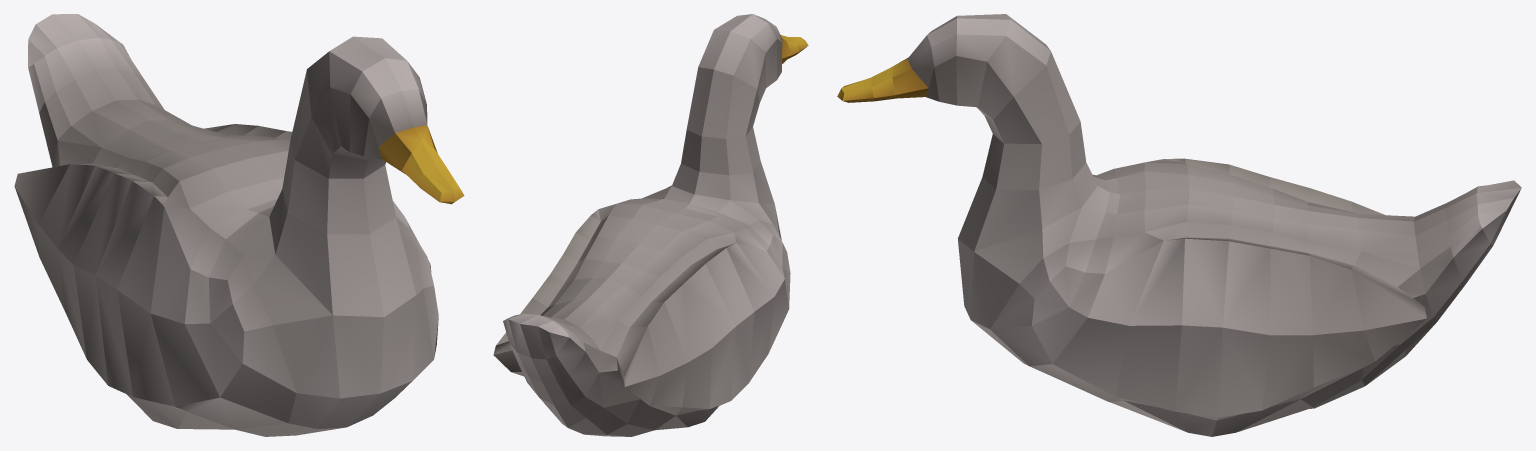
Rendered from Duck.fbx.
3 views of the same model, side by side, from view 1: azimuth 30°, elevation 25°; view 2: azimuth 150°, elevation 25°; view 3: azimuth 270°, elevation 25° (orthographic). The views are drawn at different scales.
Parts seen in each view (by area): view 1: Duck; view 2: Duck; view 3: Duck.
Boxes of the visible parts, x1=… form: Duck: x1=14, y1=14, x2=464, y2=436; Duck: x1=493, y1=14, x2=808, y2=436; Duck: x1=837, y1=14, x2=1521, y2=436.
Size of the model in its own units: 28.2 by 45.16 by 72.84.
